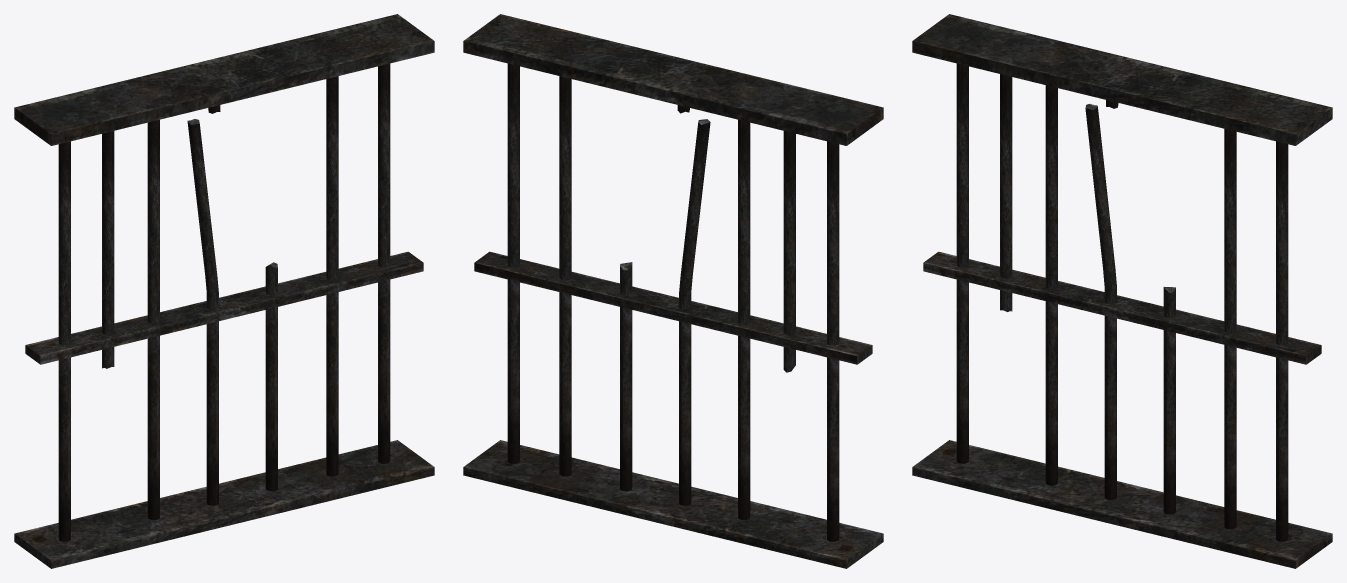
Rendered from prisonbars_broken.dae.
The picture shows the model from 3 angles, left to right: view 1: azimuth 30°, elevation 25°; view 2: azimuth 150°, elevation 25°; view 3: azimuth 330°, elevation 25°; orthographic projection.
Parts seen in each view (by area): view 1: polySurface24; view 2: polySurface24; view 3: polySurface24.
Boxes of the visible parts, x1,y1,x2,y2 form: polySurface24: (14,14,434,568); polySurface24: (463,14,883,568); polySurface24: (912,14,1332,568).
Bounding box in the file's own units: 3 × 3.25 × 0.5.
